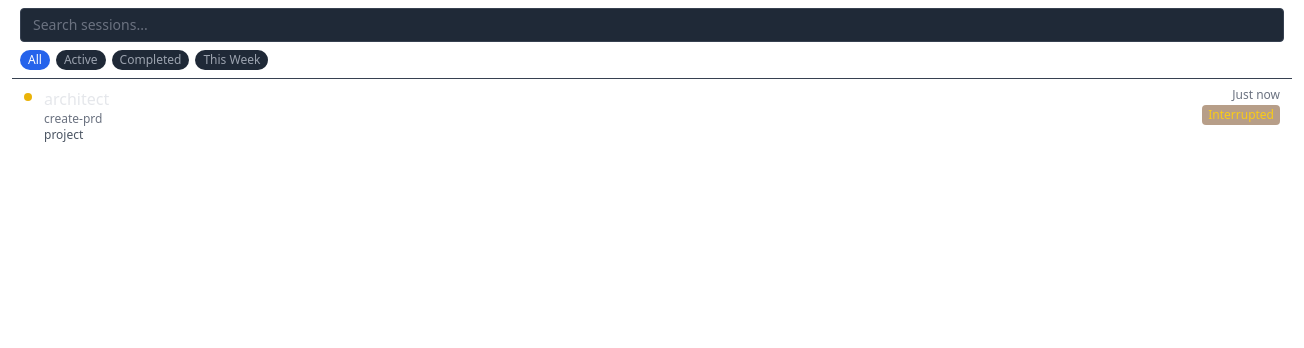
SessionList › filter chips › shows empty state message when Completed filter has no matches
Click the button "Completed". click: (150, 60)
box: x1=112 y1=50 x2=189 y2=70
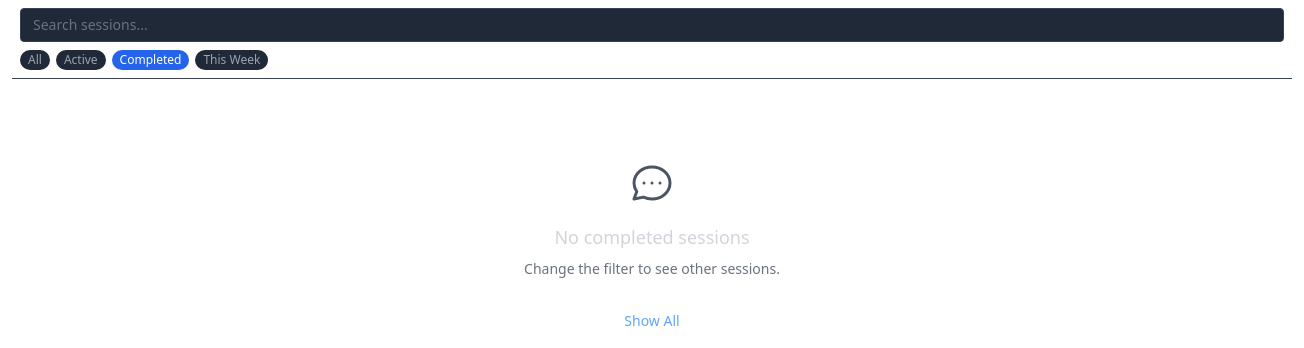
Check: the heading "No completed sessions" is shown, box x1=554 y1=223 x2=750 y2=251
Check: the button "Show All" is shown, box x1=624 y1=311 x2=680 y2=331
